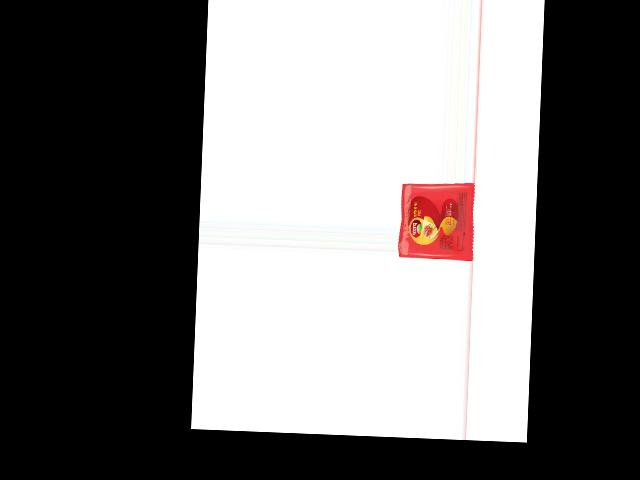cheese: (398, 183, 476, 261)
